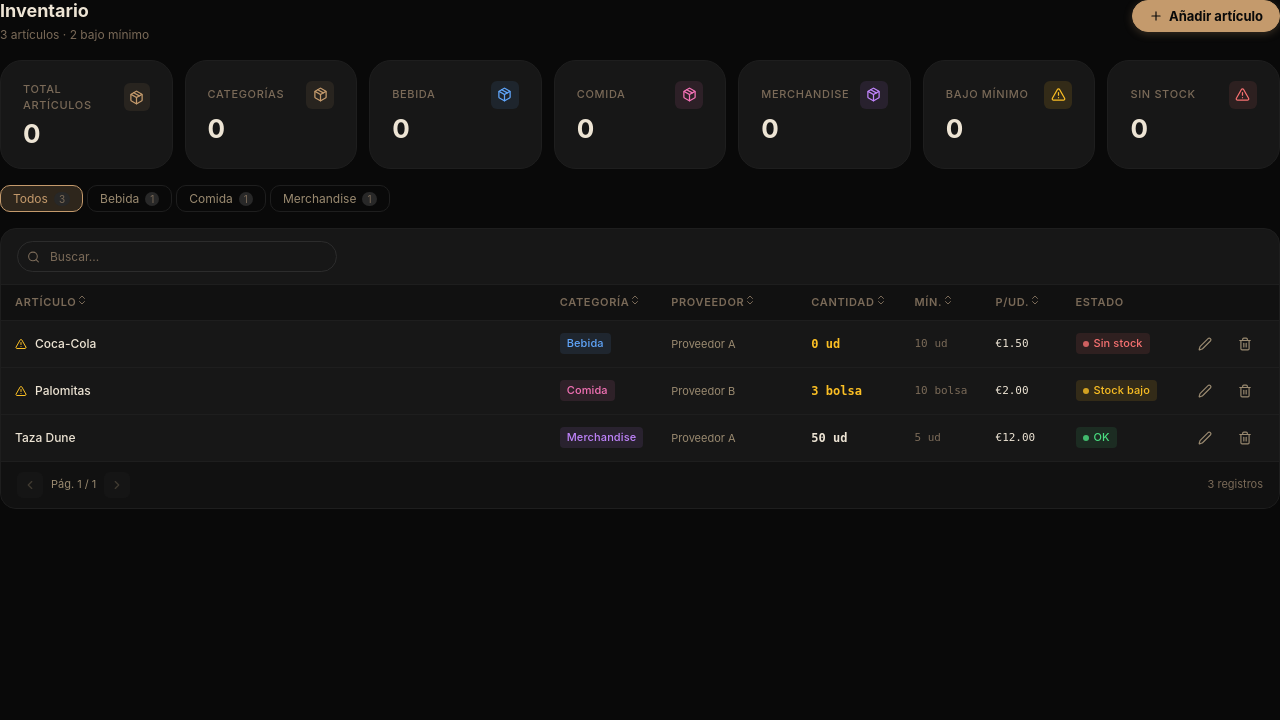
Test case: InventoryPage — stockModal › opens belowMin modal via KPI card and shows grouped items
Expected: the text "Coca-Cola" is shown, [35, 335, 96, 353]
Click the button "Bajo mínimo 0".
click(1009, 114)  # box [923, 60, 1095, 169]
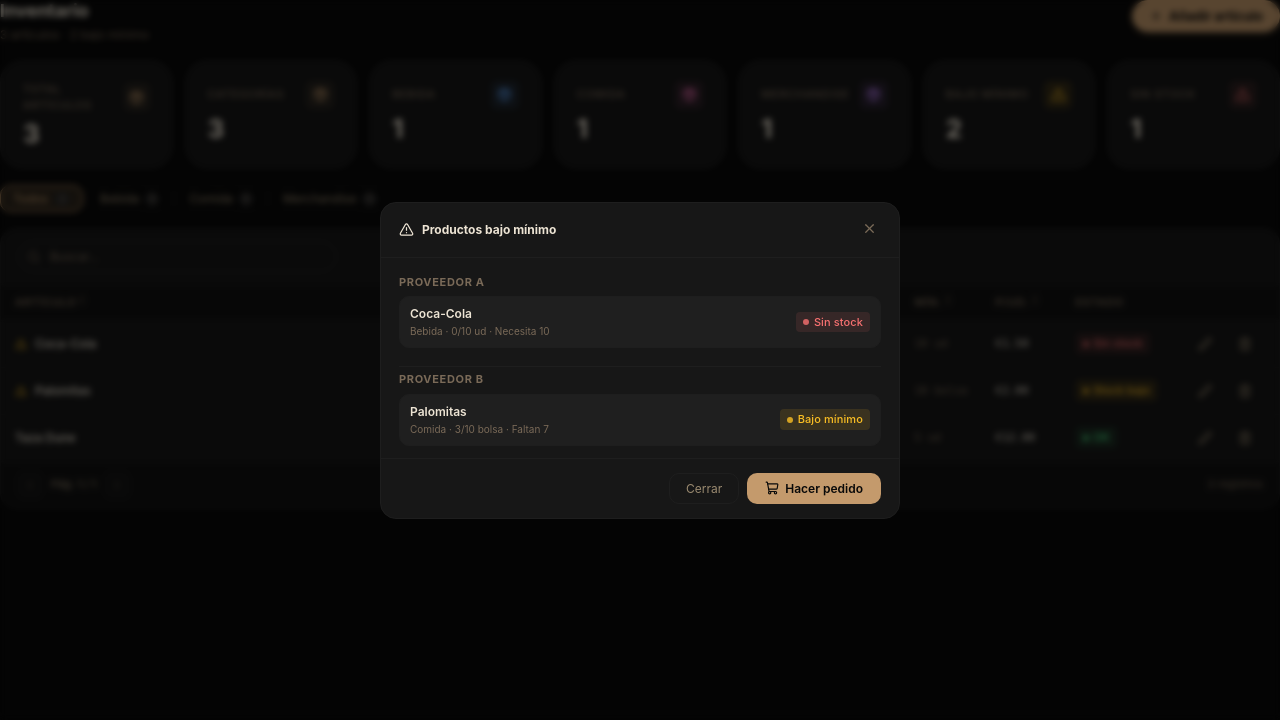
Now the heading "Productos bajo mínimo" is shown, box [399, 220, 556, 238]
